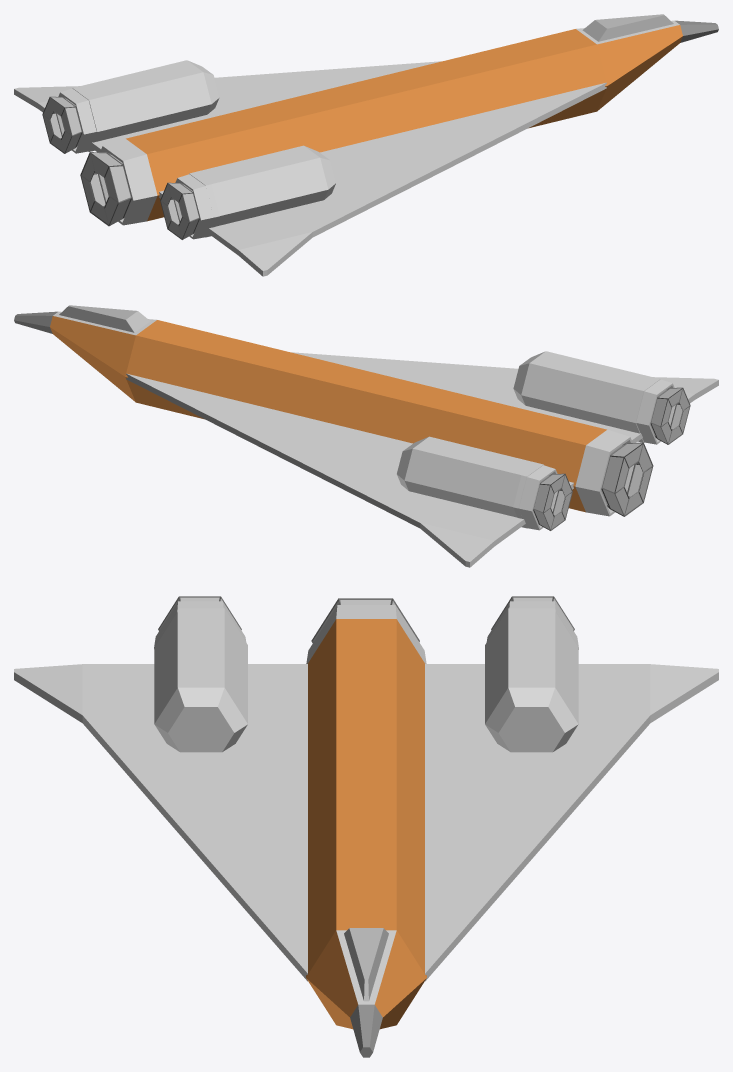
File: bomber.fbx
The picture shows the model from 3 angles, top to bottom: view 1: azimuth 30°, elevation 25°; view 2: azimuth 150°, elevation 25°; view 3: azimuth 270°, elevation 25°; orthographic projection. The views are drawn at different scales.
Visible parts, largest first — view 1: Cylinder; view 2: Cylinder; view 3: Cylinder.
Part boxes in pixels (left/top/right/bottom): Cylinder: left=14, top=14, right=718, bottom=276; Cylinder: left=14, top=305, right=718, bottom=567; Cylinder: left=14, top=596, right=718, bottom=1057.
Size of the model in its own units: 1668 by 196 by 1164.
